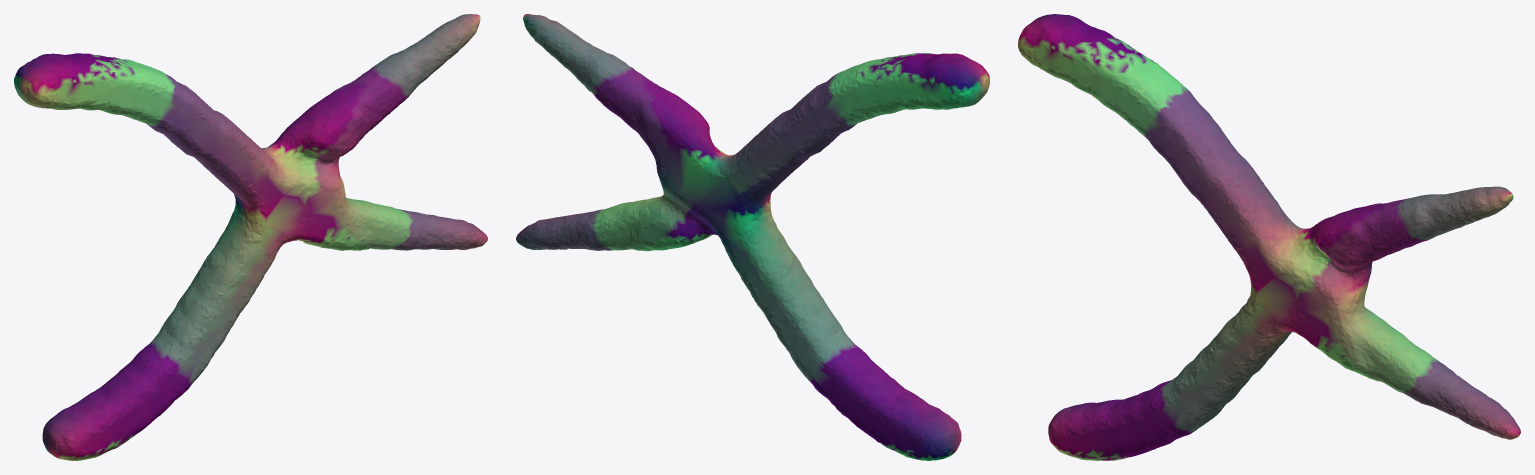
File: pliers-10.off.obj
3 views of the same model, side by side, from view 1: azimuth 30°, elevation 25°; view 2: azimuth 150°, elevation 25°; view 3: azimuth 330°, elevation 25° (orthographic). The views are drawn at different scales.
Size of the model in its own units: 1.55 by 1.27 by 0.1625.
